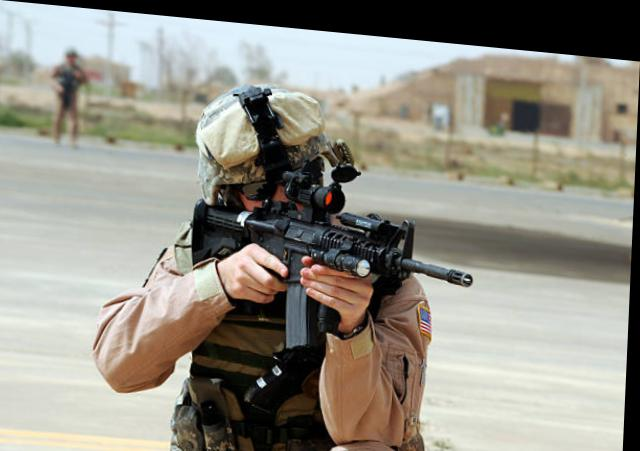other: (170, 79, 442, 450)
